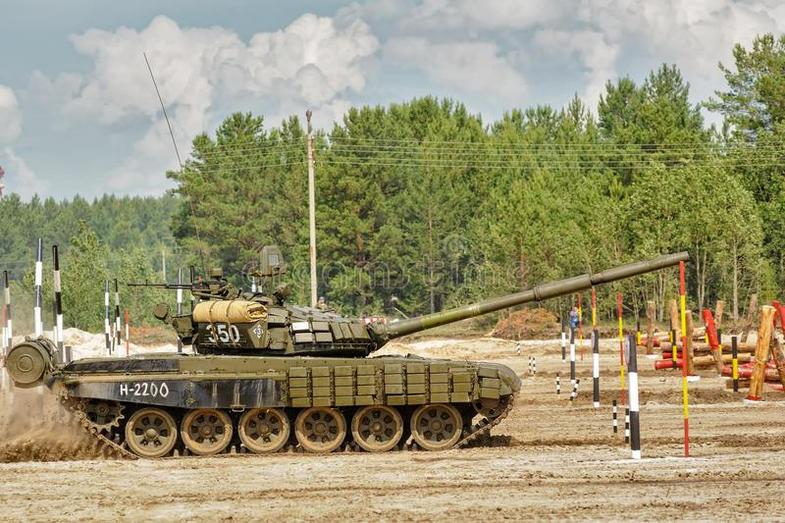t72: (48, 273, 618, 445)
